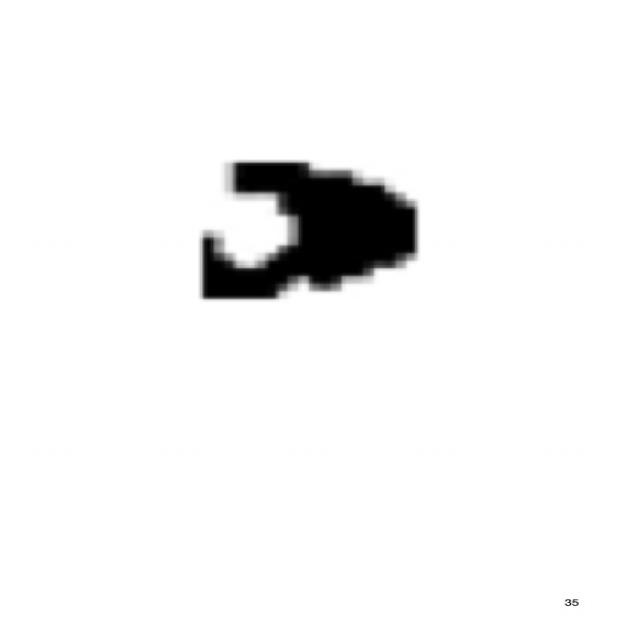0 -zero-: (183, 148, 428, 306)
